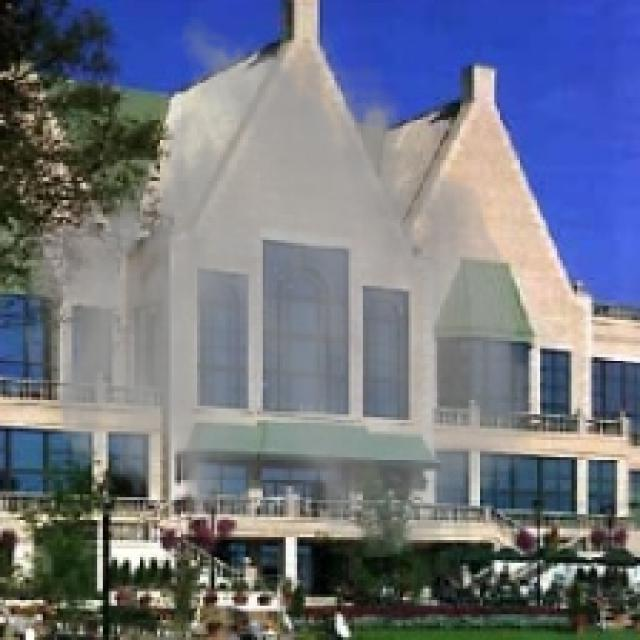Smoke: (17, 14, 543, 563)
